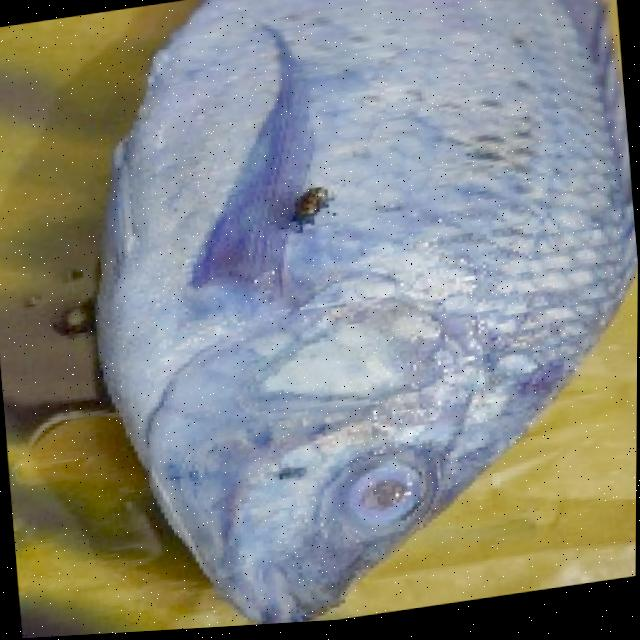Non-Fresh: (16, 0, 614, 639), (319, 444, 439, 548)
